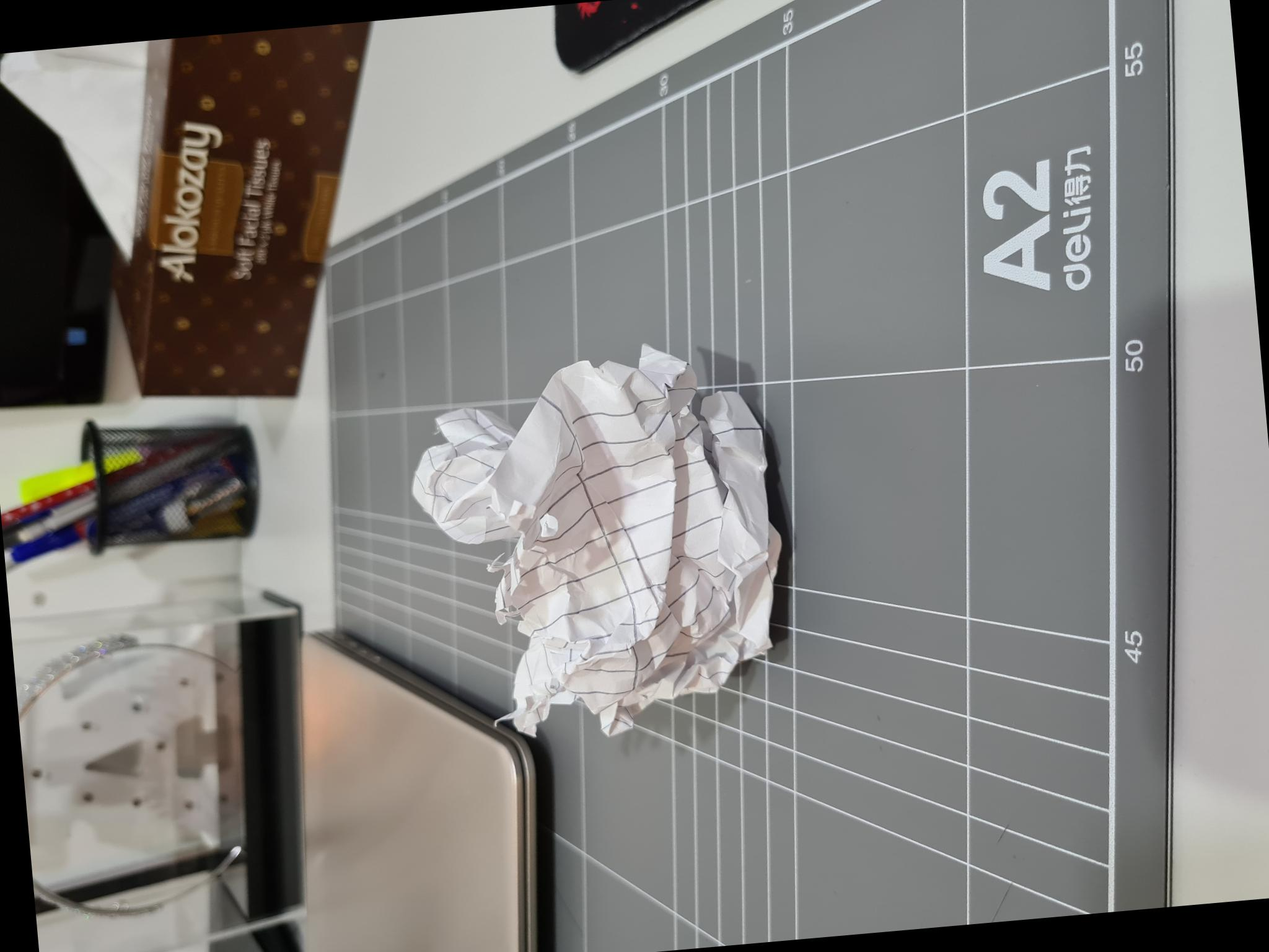Kertas: (231, 426, 621, 794)
